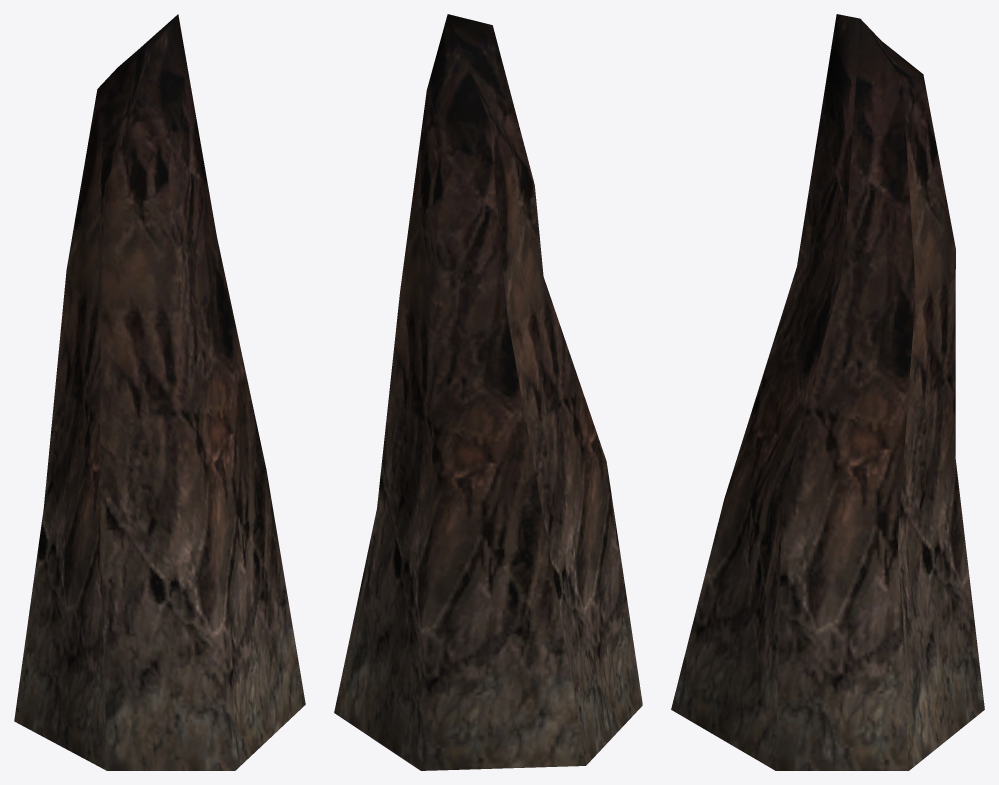
File: burningsteppesboulders02.glb
The picture shows the model from 3 angles, left to right: view 1: azimuth 30°, elevation 25°; view 2: azimuth 150°, elevation 25°; view 3: azimuth 270°, elevation 25°; orthographic projection. The views are drawn at different scales.
Size of the model in its own units: 3.02 by 8.33 by 3.34.
Materials: 1 (1 with a texture image).
